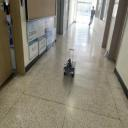cart: (63, 61, 76, 78)
